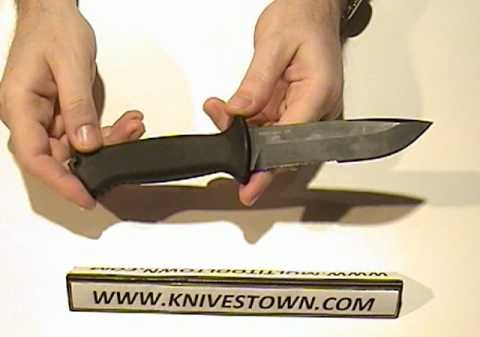knife: (197, 106, 454, 189)
